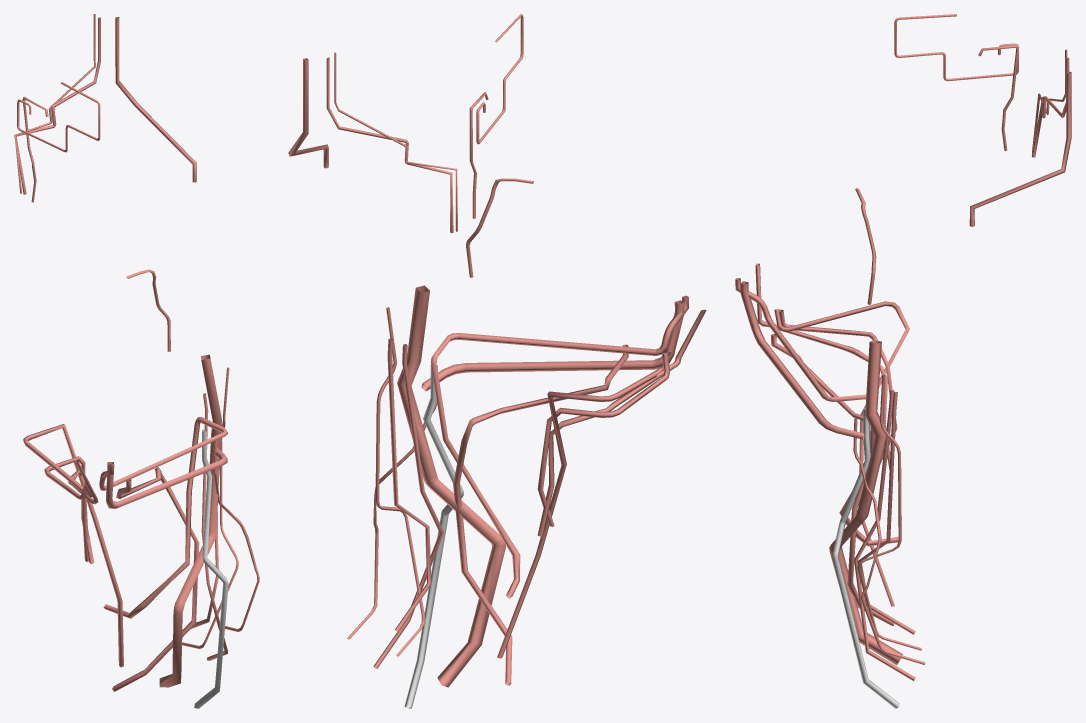
File: tuyau 02.fbx
3 renders of one model, left to right at view 1: azimuth 30°, elevation 25°; view 2: azimuth 150°, elevation 25°; view 3: azimuth 270°, elevation 25°, orthographic. The views are drawn at different scales.
Parts seen in each view (by area): view 1: Plane.367, Plane.375, Plane.397, Plane.368, Plane.373, Plane.404, Plane.537, Plane.369, Plane.538, Plane.861, Plane.609, Plane.311 (+5 smaller); view 2: Plane.367, Plane.375, Plane.373, Plane.404, Plane.368, Plane.397, Plane.861, Plane.610, Plane.366, Plane.609, Plane.369, Plane.538 (+4 smaller); view 3: Plane.367, Plane.368, Plane.404, Plane.375, Plane.397, Plane.861, Plane.373, Plane.369, Plane.537, Plane.366, Plane.610, Plane.608 (+3 smaller).
Part boxes in pixels (bbox=[...]): Plane.367: bbox=[159, 354, 222, 687]; Plane.375: bbox=[99, 417, 228, 618]; Plane.397: bbox=[23, 424, 123, 667]; Plane.368: bbox=[194, 429, 228, 708]; Plane.373: bbox=[112, 467, 199, 691]; Plane.404: bbox=[106, 447, 227, 508]; Plane.537: bbox=[115, 17, 196, 182]; Plane.369: bbox=[182, 367, 238, 648]; Plane.538: bbox=[14, 17, 100, 194]; Plane.861: bbox=[201, 393, 227, 660]; Plane.609: bbox=[44, 456, 94, 563]; Plane.311: bbox=[17, 82, 100, 152]; Plane.367: bbox=[397, 285, 505, 687]; Plane.375: bbox=[431, 295, 688, 598]; Plane.373: bbox=[453, 344, 628, 685]; Plane.404: bbox=[421, 300, 684, 391]; Plane.368: bbox=[404, 365, 463, 708]; Plane.397: bbox=[497, 352, 674, 658]; Plane.861: bbox=[373, 344, 443, 668]; Plane.610: bbox=[537, 309, 706, 536]; Plane.366: bbox=[387, 338, 431, 631]; Plane.609: bbox=[537, 352, 669, 526]; Plane.369: bbox=[375, 307, 424, 656]; Plane.538: bbox=[326, 57, 453, 233]; Plane.367: bbox=[829, 340, 902, 665]; Plane.368: bbox=[832, 407, 899, 708]; Plane.404: bbox=[740, 281, 864, 439]; Plane.375: bbox=[735, 278, 898, 546]; Plane.397: bbox=[774, 301, 909, 606]; Plane.861: bbox=[854, 390, 915, 681]; Plane.373: bbox=[771, 334, 894, 625]; Plane.369: bbox=[857, 374, 921, 650]; Plane.537: bbox=[969, 71, 1071, 226]; Plane.366: bbox=[857, 392, 915, 634]; Plane.610: bbox=[755, 263, 890, 469]; Plane.608: bbox=[853, 417, 925, 664].
Bounding box in the file's own units: 53.78 × 138 × 65.07.
